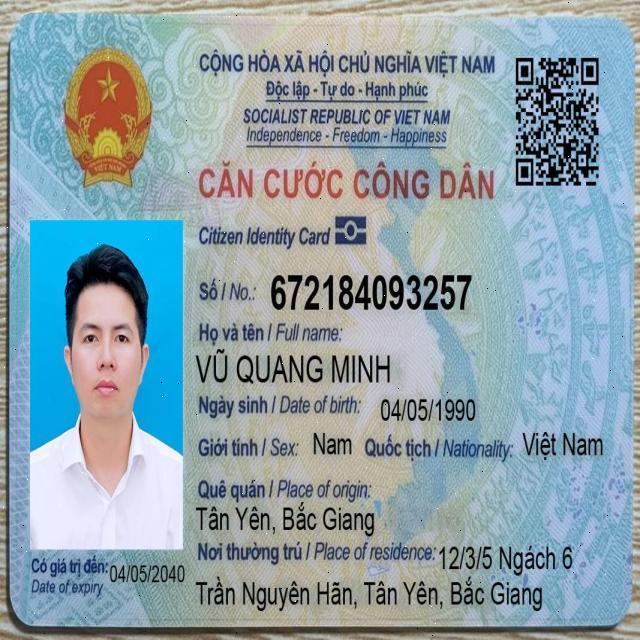current_place: (193, 571, 546, 617), (436, 538, 577, 579)
dob: (379, 395, 479, 428)
expire_date: (108, 561, 187, 587)
gender: (310, 428, 355, 461)
id: (268, 268, 475, 318)
name: (193, 345, 394, 389)
nationality: (520, 427, 606, 464)
origin_place: (194, 499, 377, 541)
qr: (509, 51, 606, 192)
